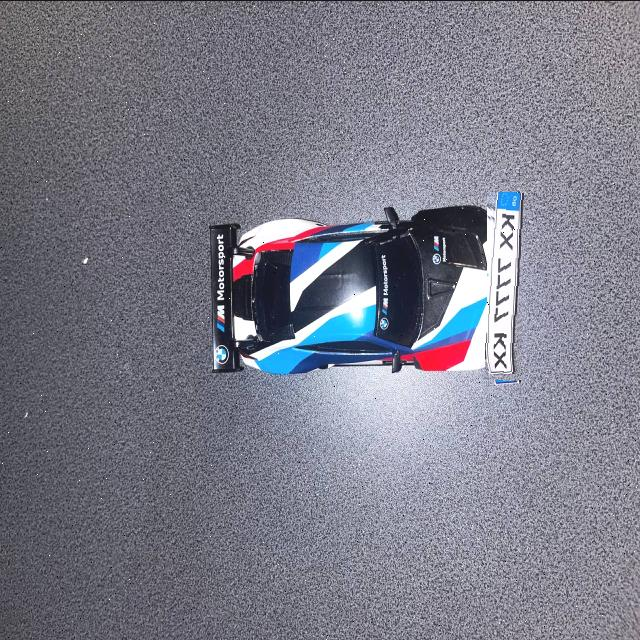KX 7777 KX: (484, 191, 525, 379)
